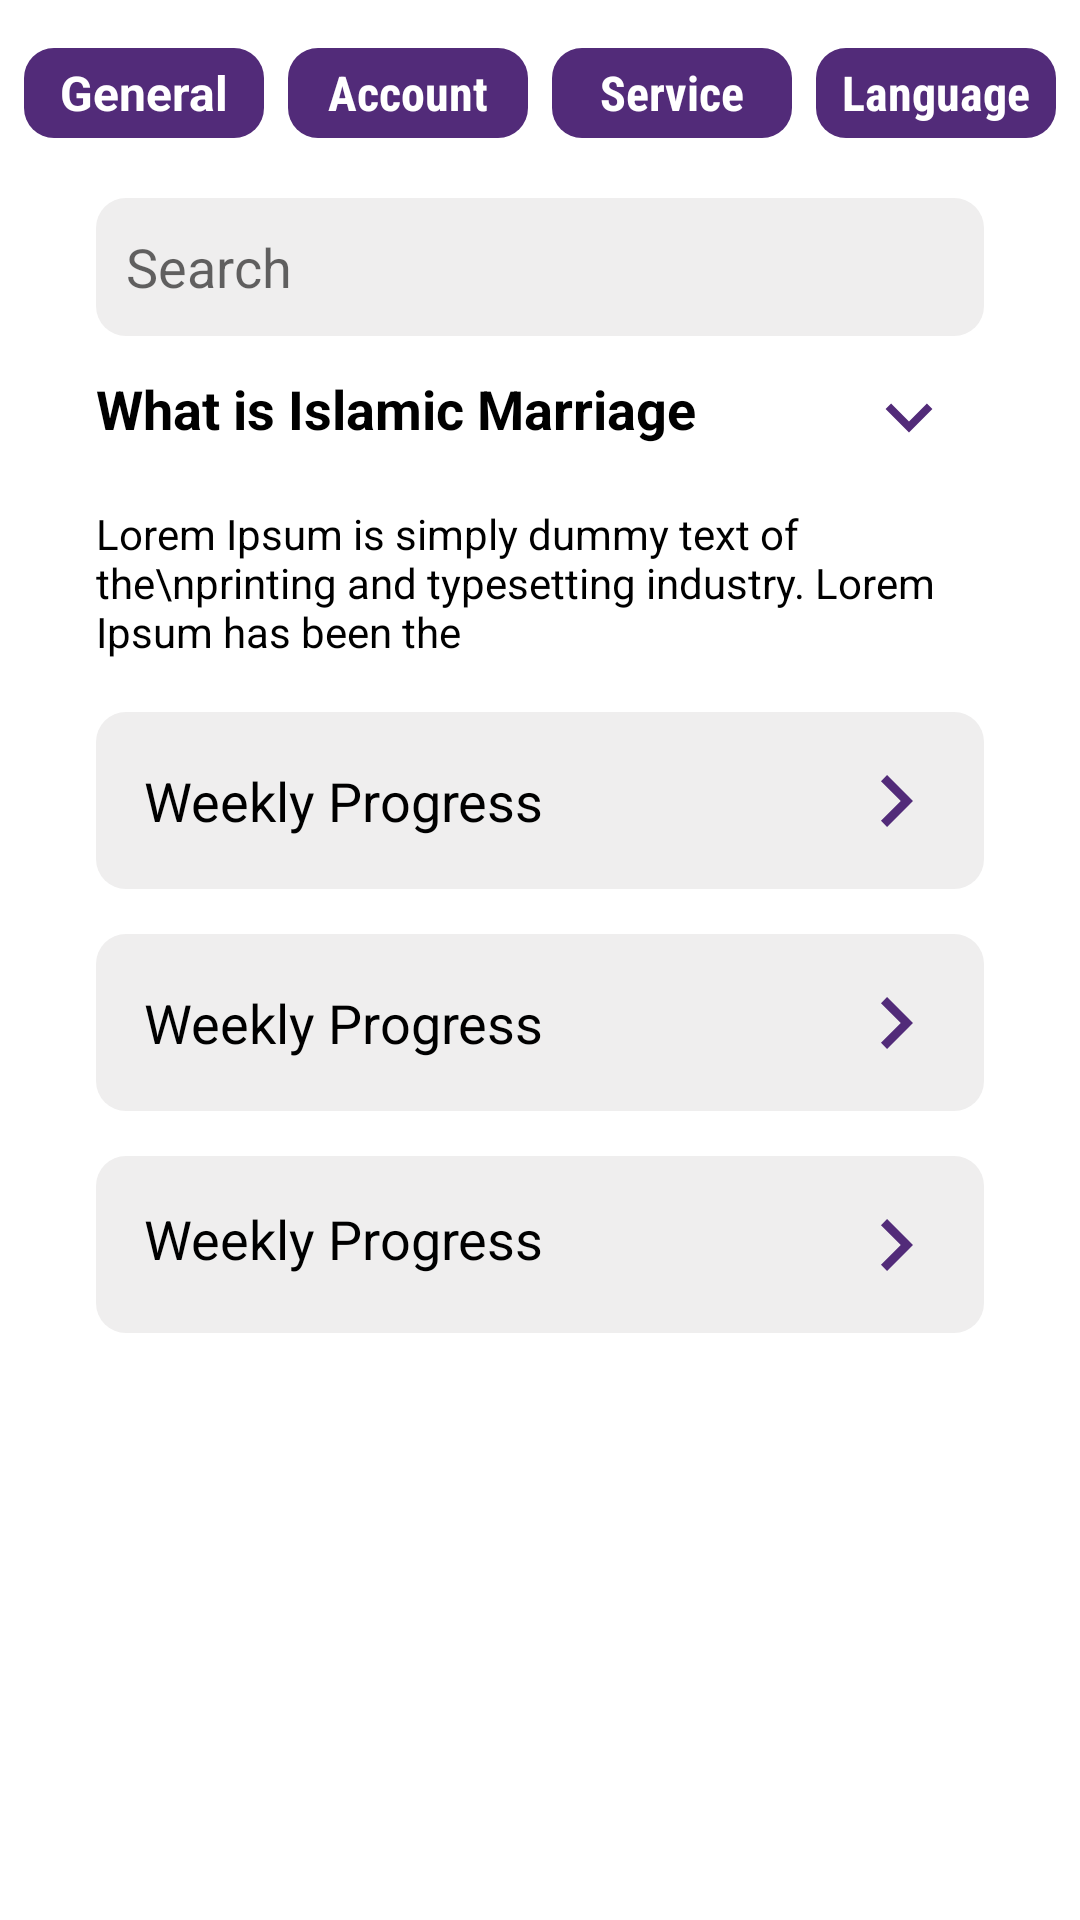

Icons on this 1080 x 1920 Android screen, each with its box as Rect(x1, y1, x2, y2):
dropdown: Rect(886, 403, 932, 433)
forward: Rect(881, 775, 913, 827), Rect(881, 997, 913, 1049), Rect(881, 1219, 913, 1271)
